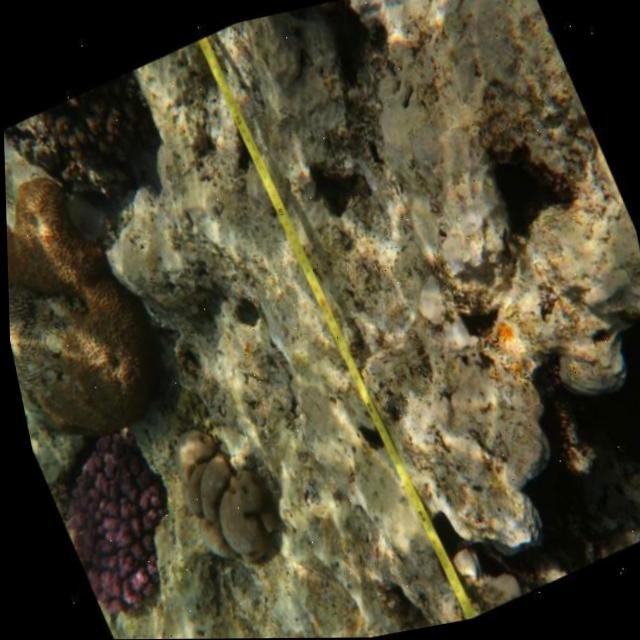Healthy Coral: (3, 137, 192, 454), (28, 407, 205, 628)
